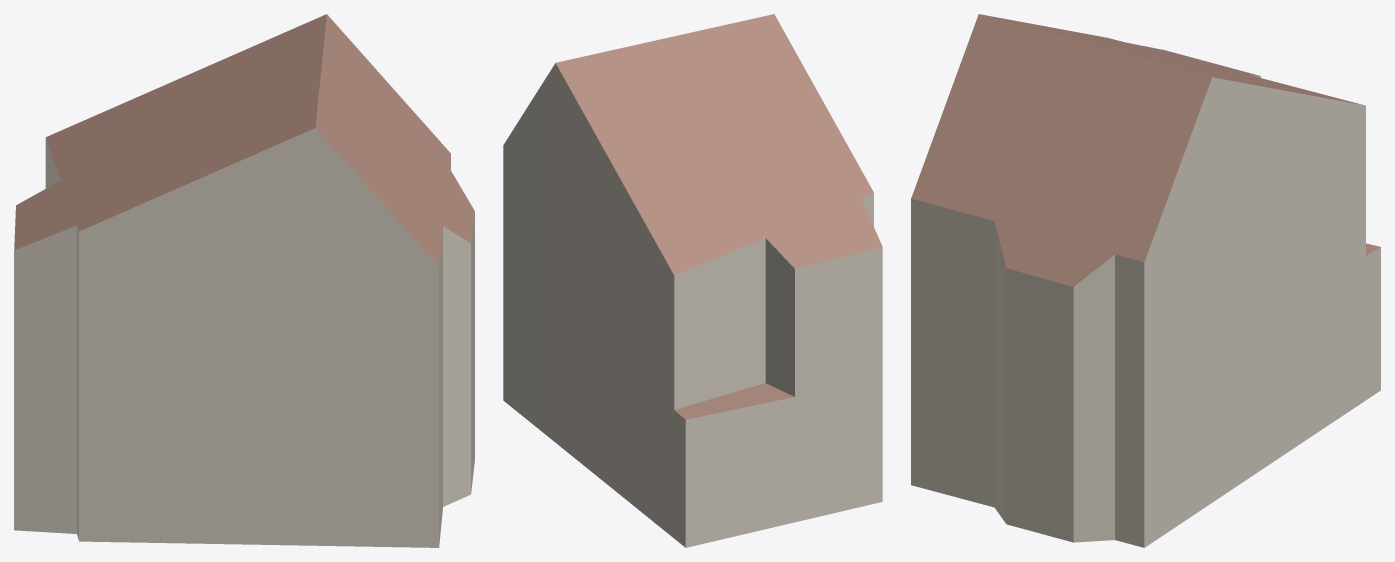
3 renders of one model, left to right at view 1: azimuth 30°, elevation 25°; view 2: azimuth 150°, elevation 25°; view 3: azimuth 270°, elevation 25°, orthographic. The views are drawn at different scales.
Size of the model in its own units: 11.09 by 10.37 by 10.36.
